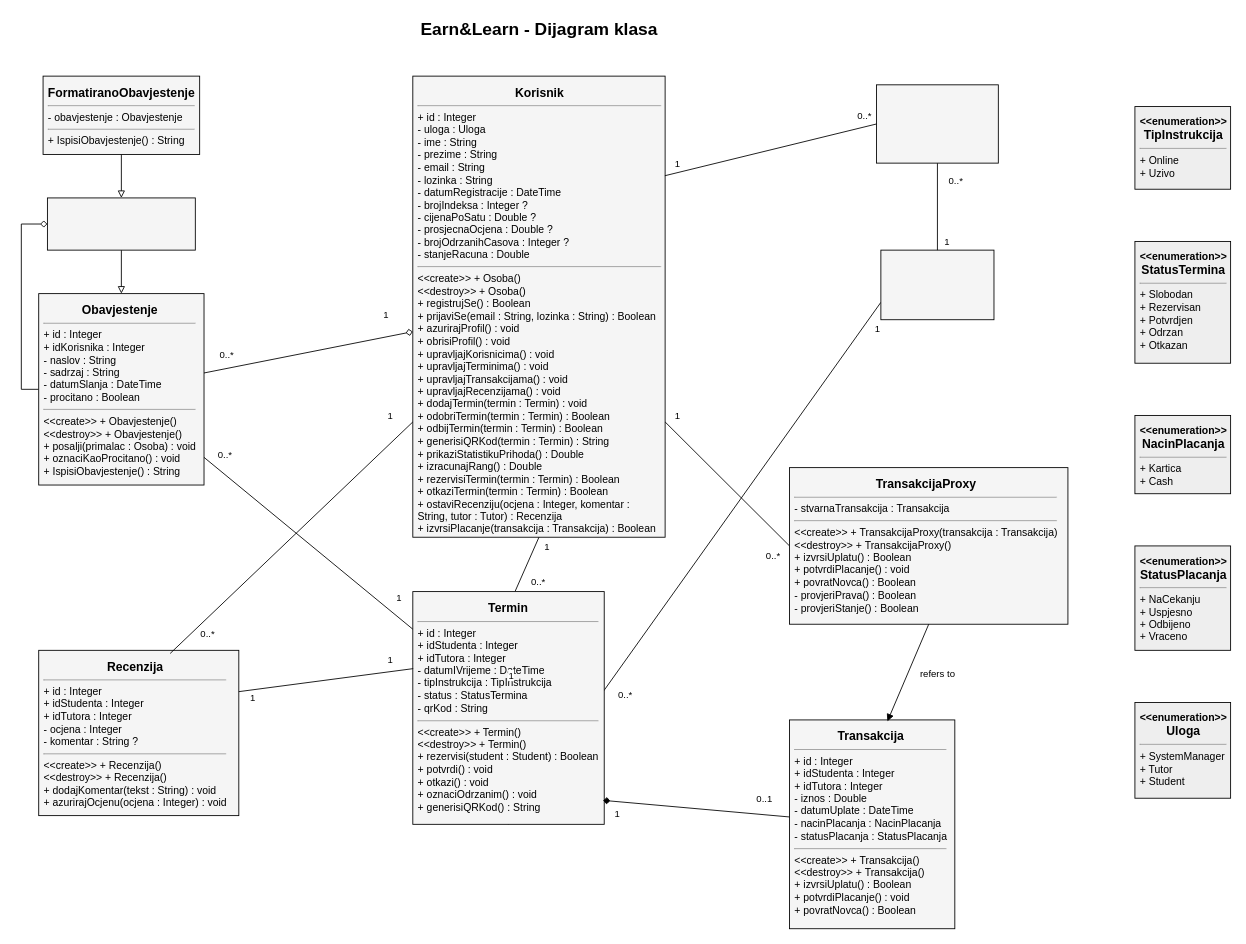
The diagram is 1246 pixels wide and 944 high, and some of its shapes have lost their labels. The shapes that lost their labels are listed below. From the top down, each one's box as (x1, y1, x2, y2) in pixels, then its label:
(876, 84, 998, 163): Korisnik / Predmet +id : Integer + idKorisnika : Integer + idPredmeta : Integer
(47, 197, 195, 250): ObavjestenjeDecorator + IspisiObavjestenje() : String
(880, 249, 994, 320): Predmet + id : Integer - naziv : String
